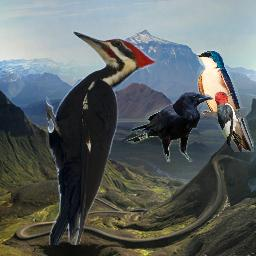Crow: (125, 91, 215, 162)
Swallow: (196, 50, 254, 152)
Woodpecker: (46, 29, 160, 245), (215, 91, 243, 147)
